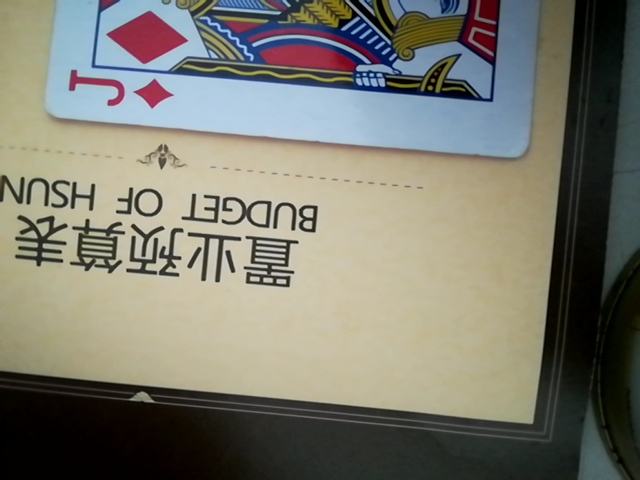fk j: (47, 0, 546, 155)
